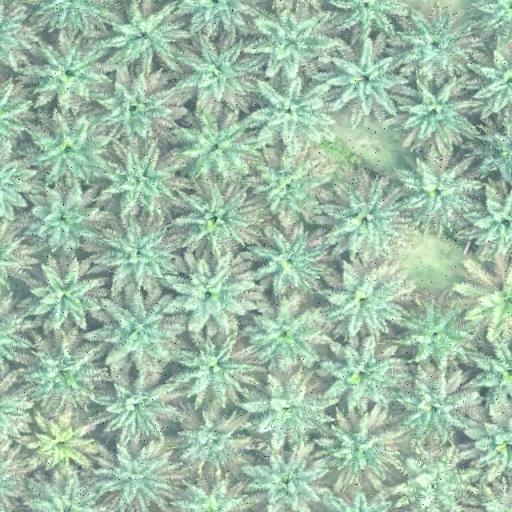Ganoderma: (42, 424, 82, 463)
